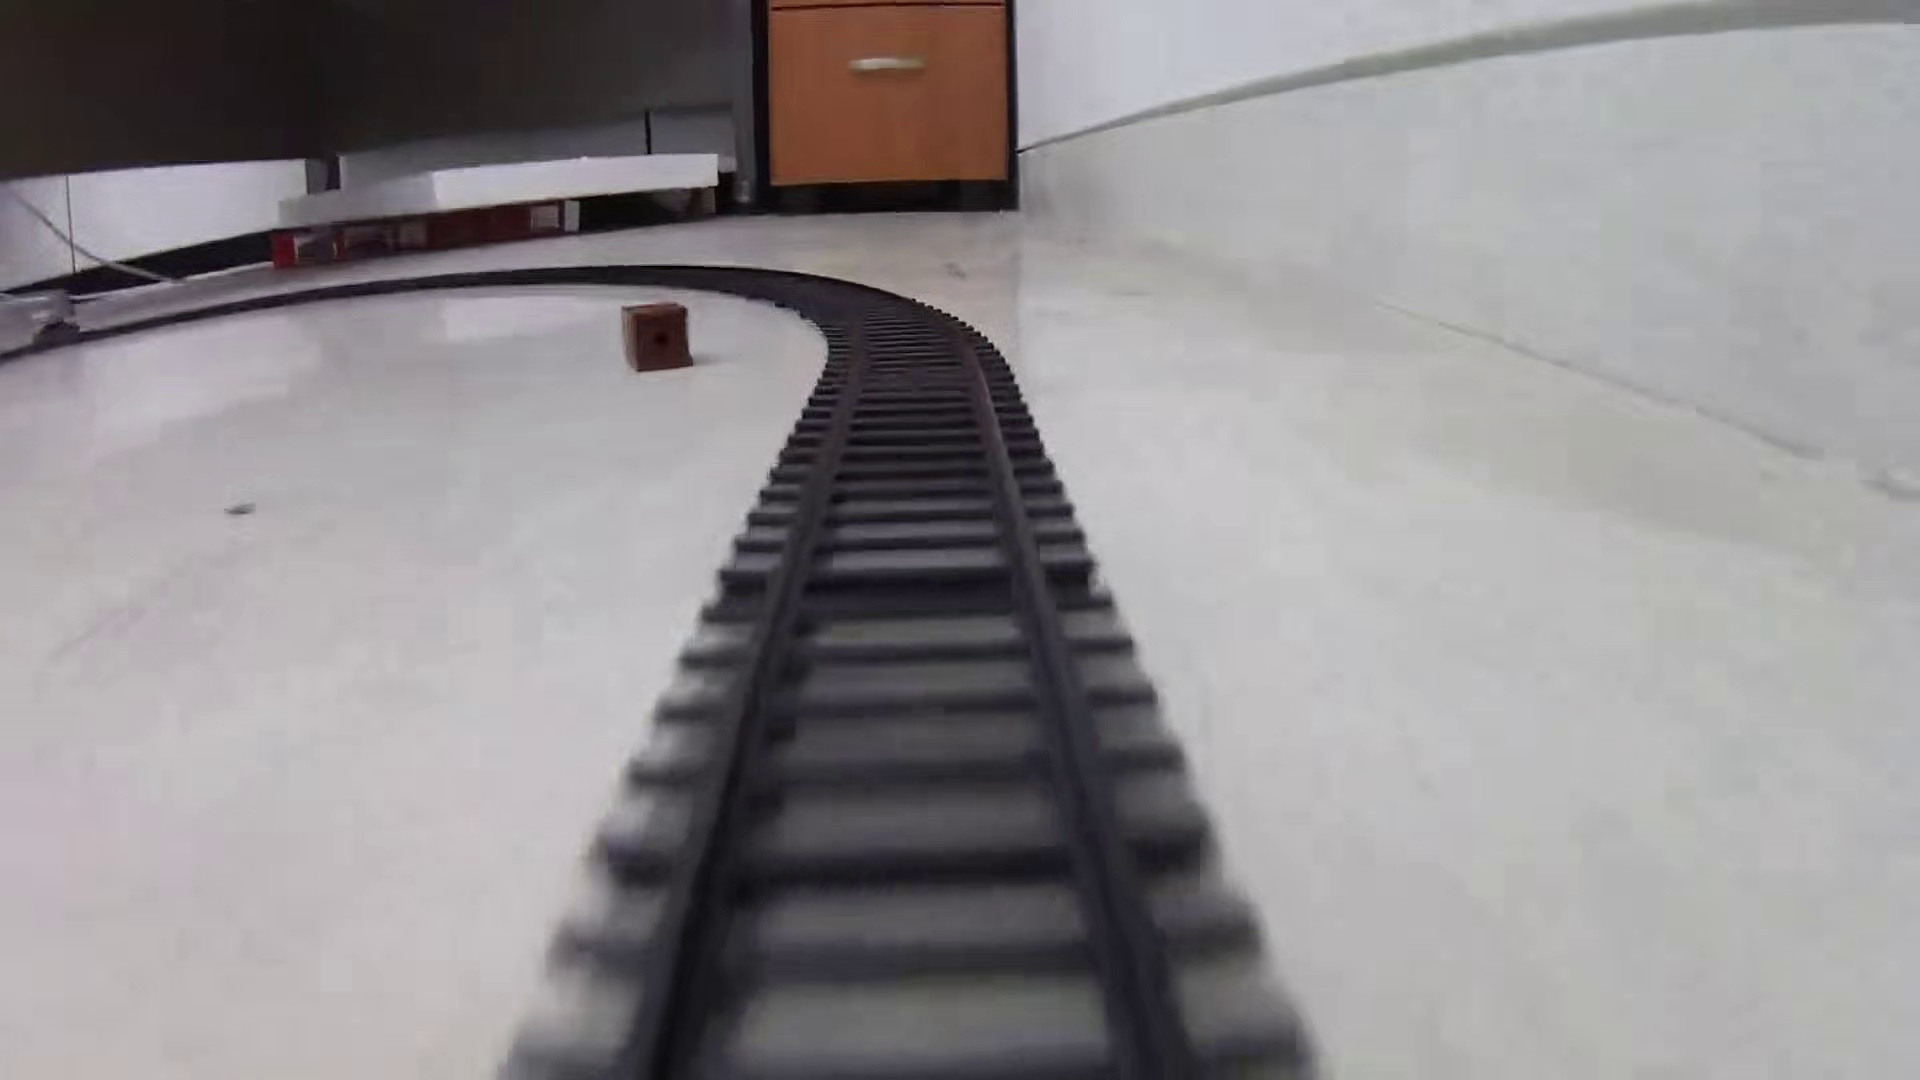box: (621, 300, 697, 374)
